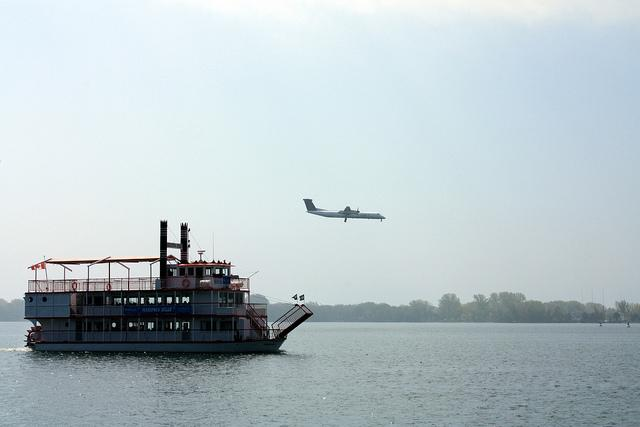airplane: (302, 196, 388, 225)
